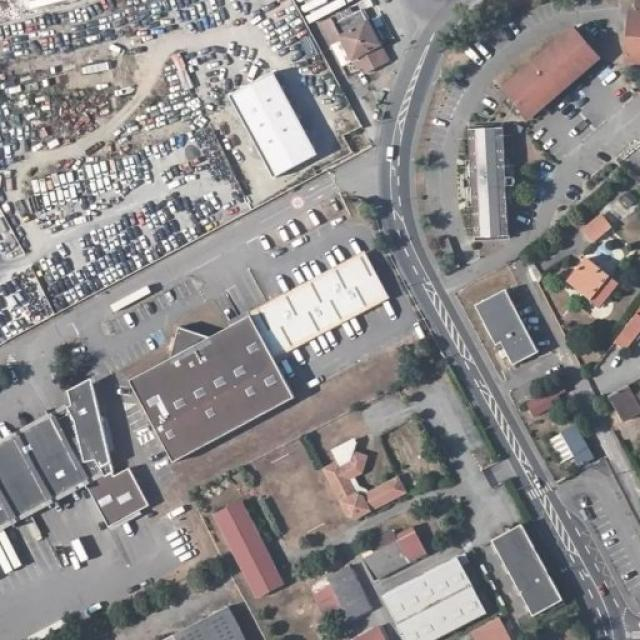immeuble: (357, 531, 528, 640), (223, 59, 322, 174), (483, 28, 600, 121), (450, 118, 528, 248), (202, 492, 298, 597), (474, 284, 555, 364), (319, 3, 404, 75), (563, 252, 620, 314), (546, 419, 586, 475)
usine: (120, 234, 380, 462), (0, 354, 134, 599)
